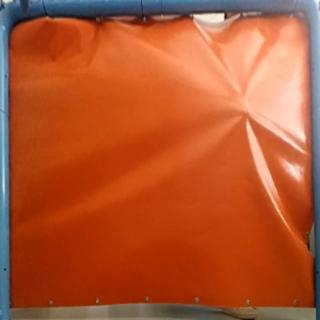Hit-hRxx: (238, 104, 253, 120)
